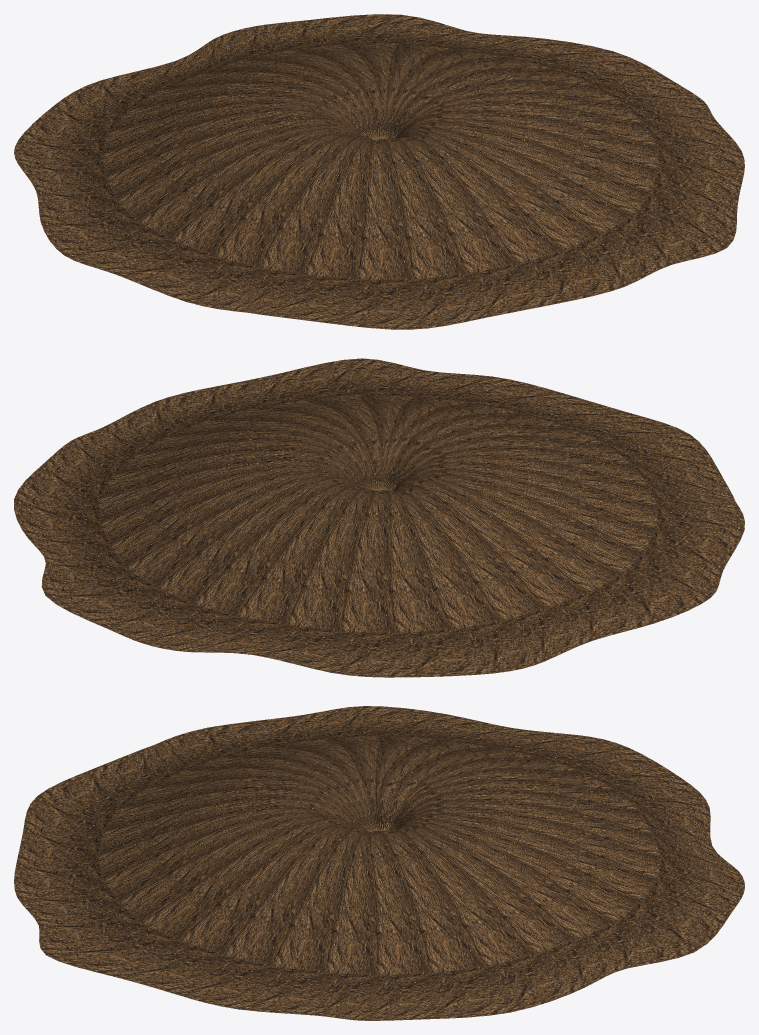
Rendered from dirtmound.fbx.
3 views of the same model, one above another, from view 1: azimuth 30°, elevation 25°; view 2: azimuth 150°, elevation 25°; view 3: azimuth 270°, elevation 25° (orthographic).
Parts seen in each view (by area): view 1: Sphere; view 2: Sphere; view 3: Sphere.
Part boxes in pixels (x1=…): Sphere: x1=14, y1=14, x2=744, y2=329; Sphere: x1=14, y1=358, x2=744, y2=677; Sphere: x1=14, y1=706, x2=744, y2=1020.
Size of the model in its own units: 146 by 12.83 by 143.
